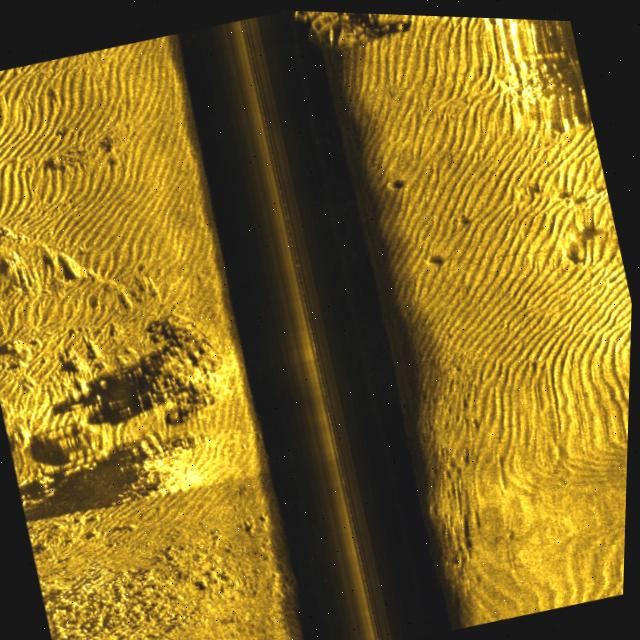artificial reef: (285, 8, 409, 53)
